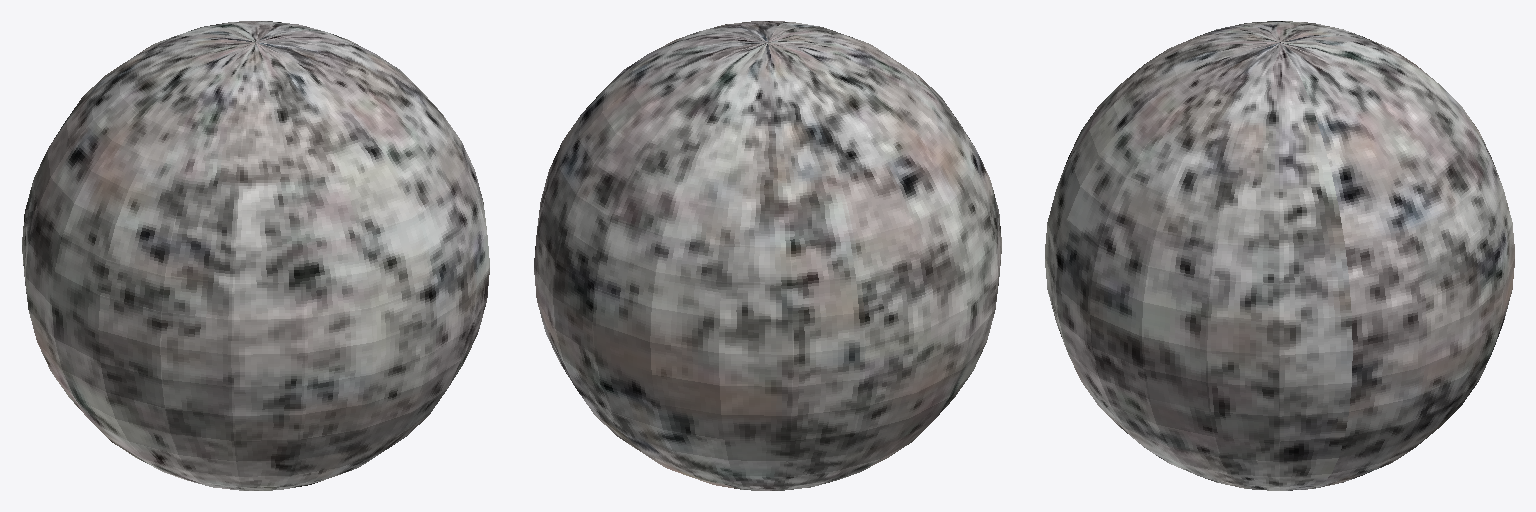
The picture shows the model from 3 angles: view 1: azimuth 30°, elevation 25°; view 2: azimuth 150°, elevation 25°; view 3: azimuth 270°, elevation 25°; orthographic projection.
Parts seen in each view (by area): view 1: pSphere1; view 2: pSphere1; view 3: pSphere1.
Boxes of the visible parts, x1,y1,x2,y2 form: pSphere1: [22, 21, 489, 490]; pSphere1: [534, 21, 1001, 490]; pSphere1: [1045, 21, 1514, 490].
Size of the model in its own units: 2 by 2 by 2.
Materials: 1 (1 with a texture image).